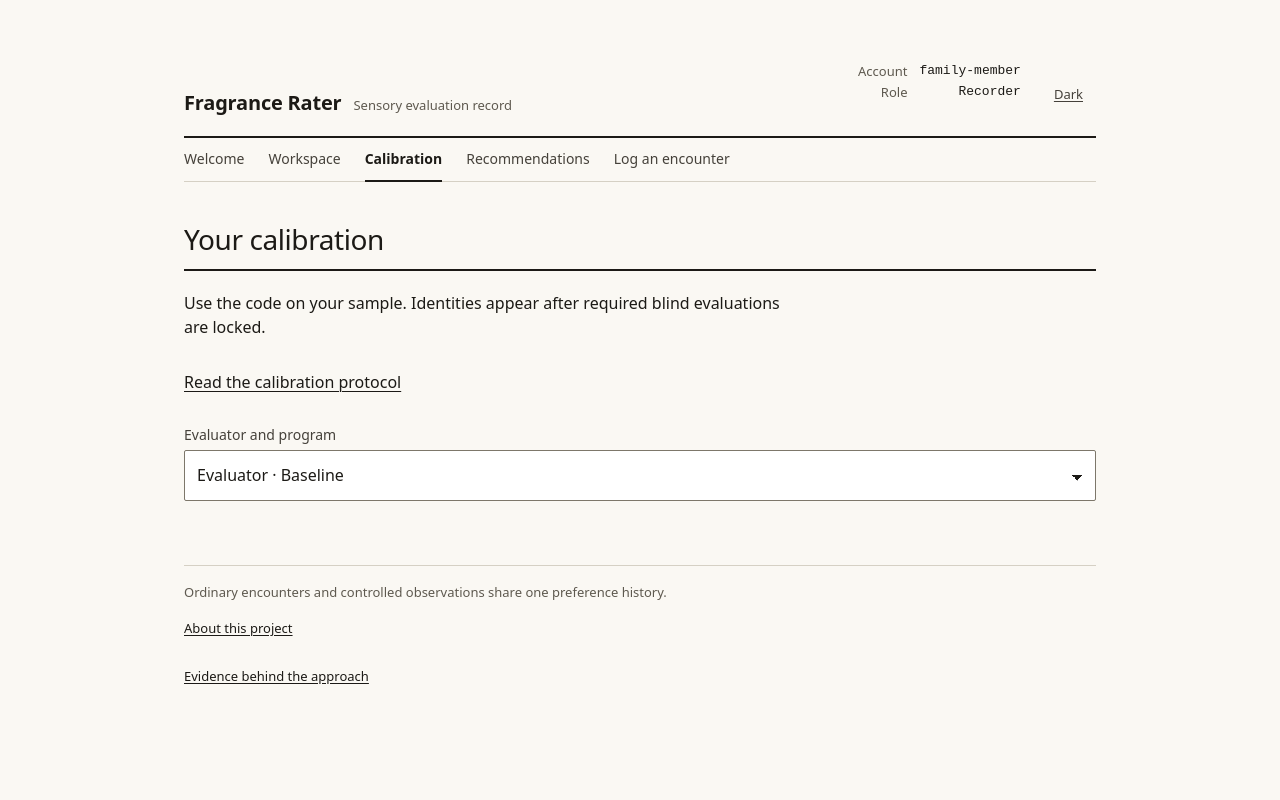
Test: Calibration protocol page › navigates from the Calibration page link without a full page reload
What coordinates should you click on to do the following:
click the link "Read the calibration protocol"
I would click on:
 (293, 382)
Its box is [184,371,401,393].
(page scrolled)
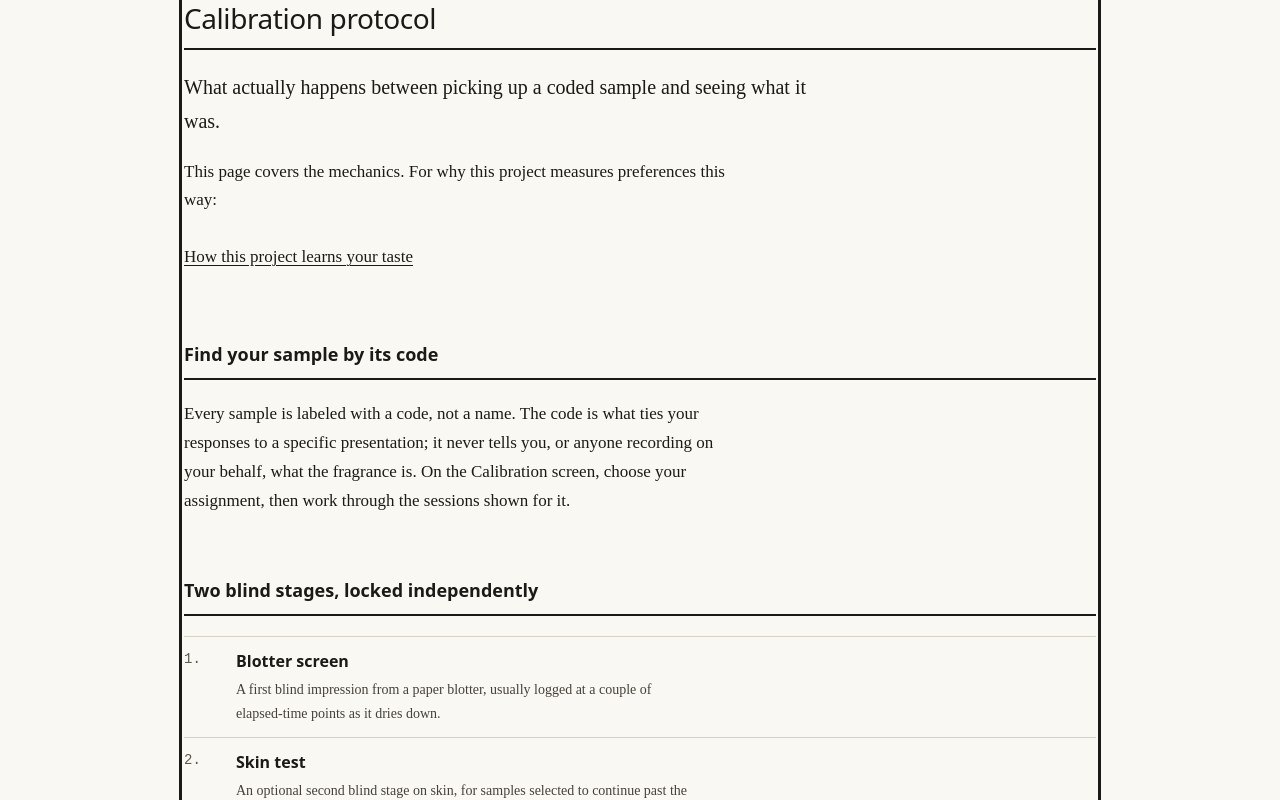
Expected: the heading "Calibration protocol" is shown, [184,1,436,36]
